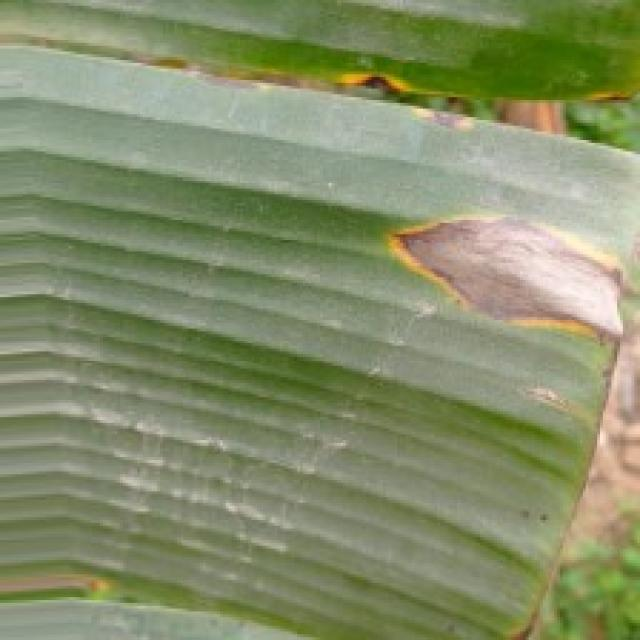Bacterial_spot: (372, 196, 632, 358), (310, 61, 452, 99), (571, 83, 640, 117)
